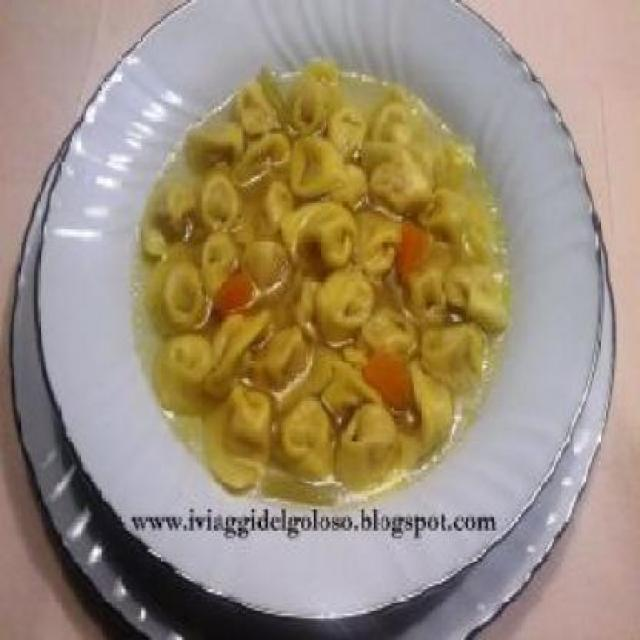Tortellini in broth: (142, 77, 508, 443)
